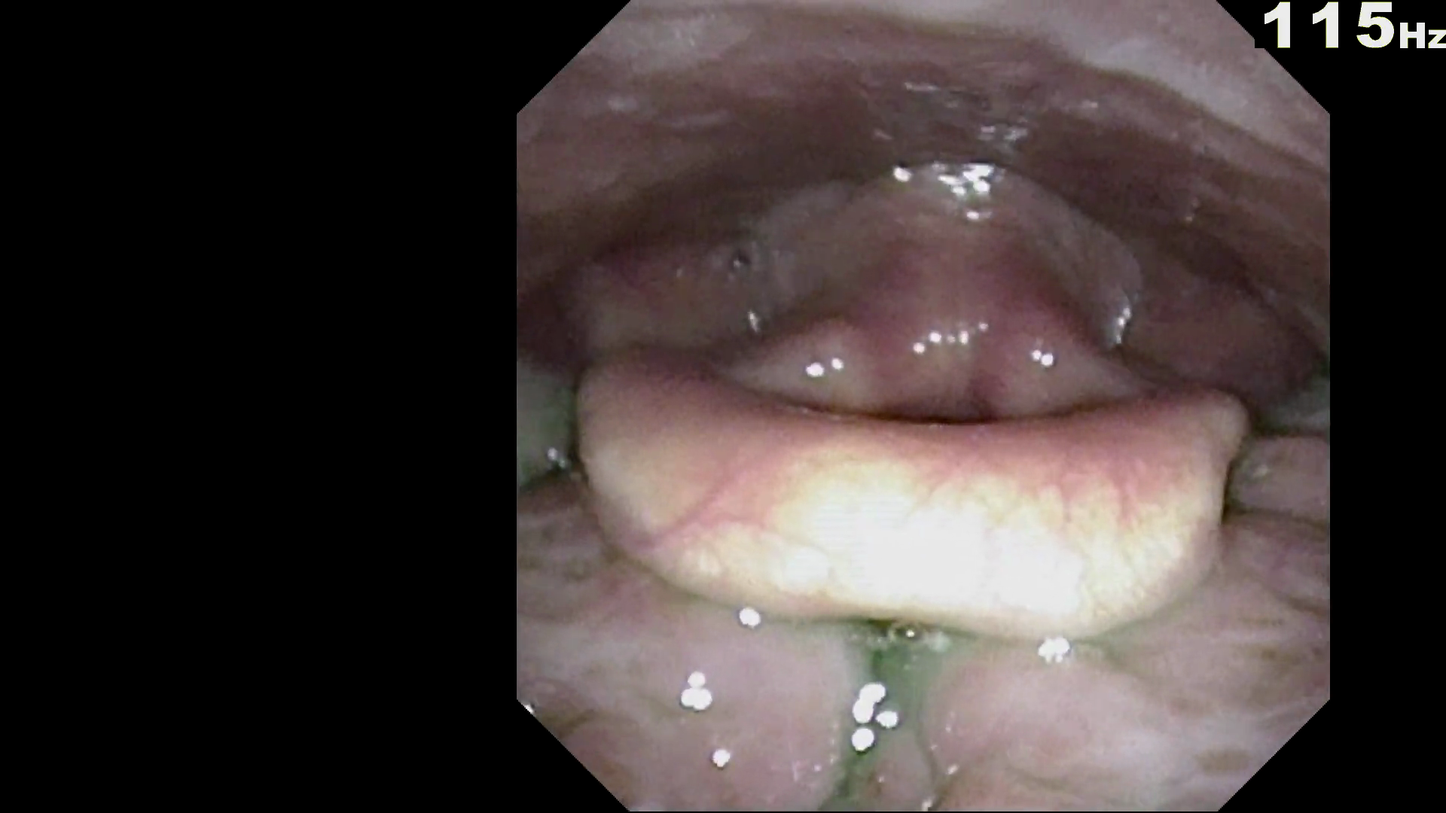epiglottis: (545, 345, 1276, 629)
trachea: (859, 355, 1045, 447), (913, 343, 1036, 480)
